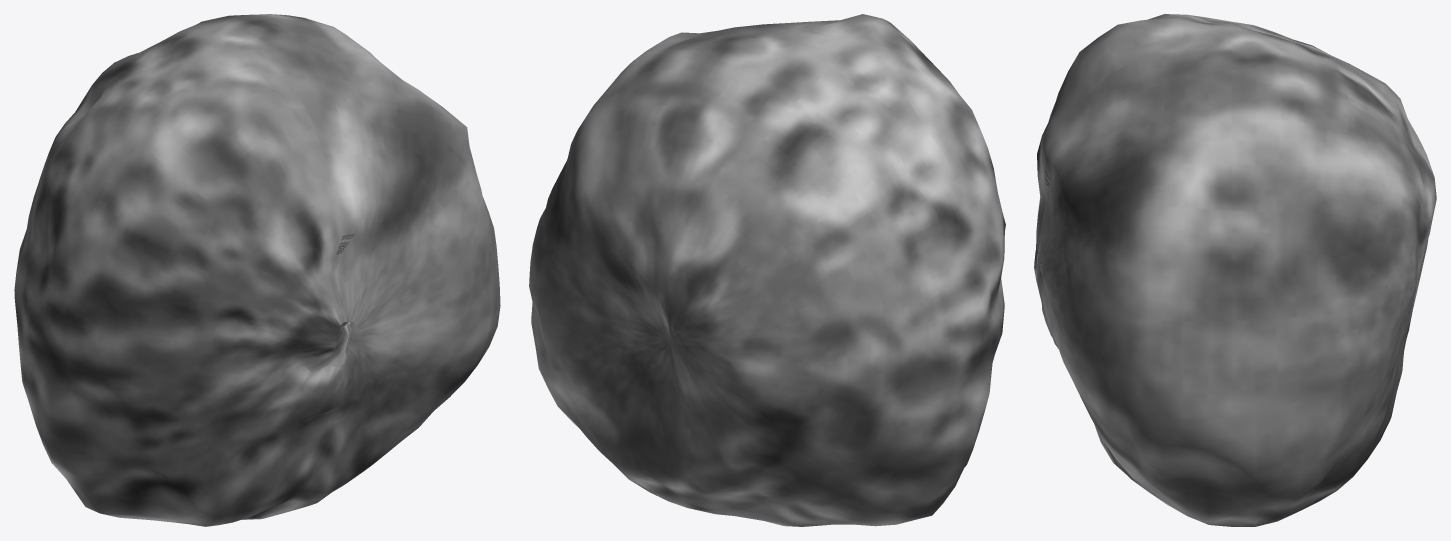
Rendered from s10janus_MLfix.obj.
3 views of the same model, side by side, from view 1: azimuth 30°, elevation 25°; view 2: azimuth 150°, elevation 25°; view 3: azimuth 270°, elevation 25° (orthographic). The views are drawn at different scales.
Bounding box in the file's own units: 192 × 193 × 155.
1 material, 1 textured.
